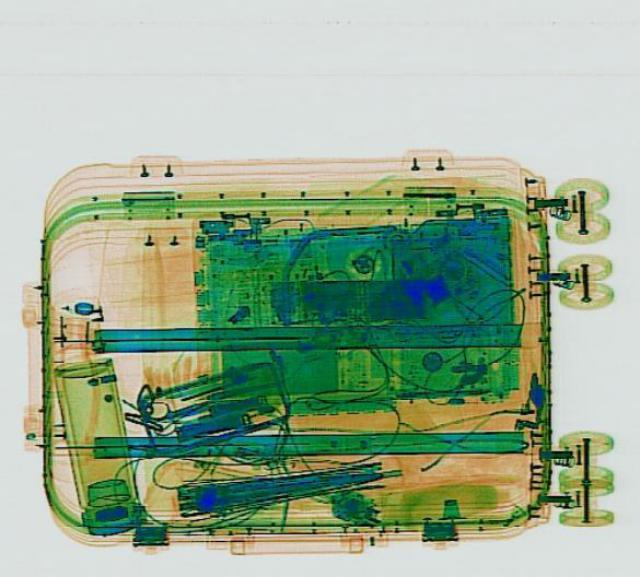Scissors: (140, 386, 222, 436)
